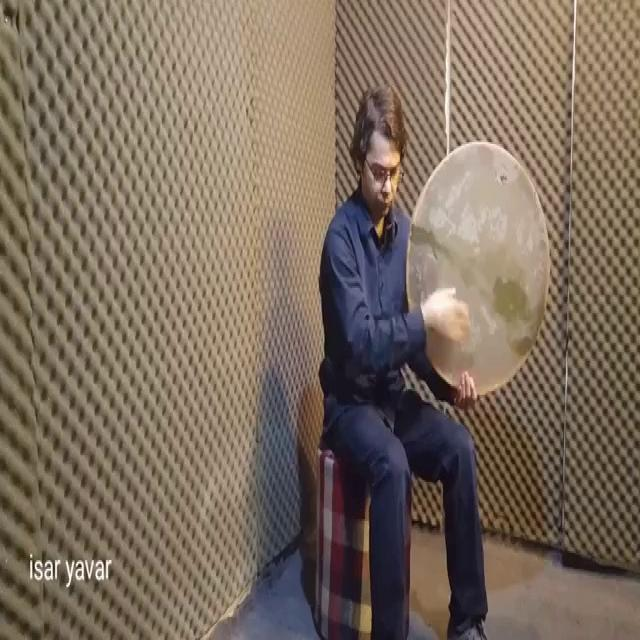Daf: (408, 128, 556, 405)
